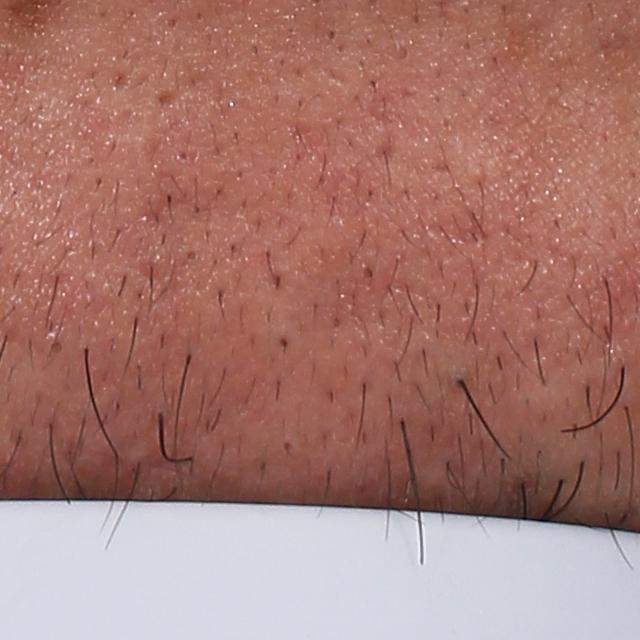atrophic_scar: (375, 136, 398, 169), (153, 88, 177, 114)
comedo: (319, 25, 343, 51)
